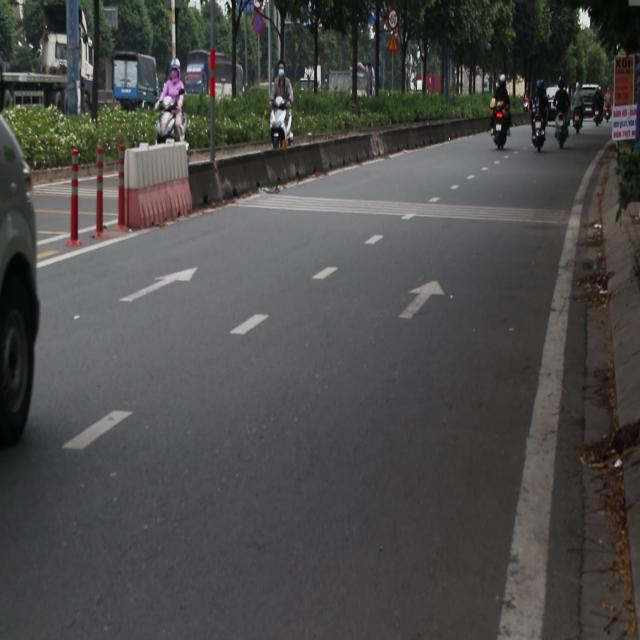car: (0, 60, 48, 448), (582, 72, 598, 115), (542, 74, 560, 107)
motorbike: (263, 101, 304, 165), (150, 105, 183, 164), (548, 108, 565, 160), (493, 105, 512, 151), (532, 112, 549, 152), (573, 107, 582, 132), (594, 106, 604, 126), (604, 100, 610, 123)
truck: (0, 1, 102, 114), (187, 38, 234, 110), (118, 50, 166, 107)
